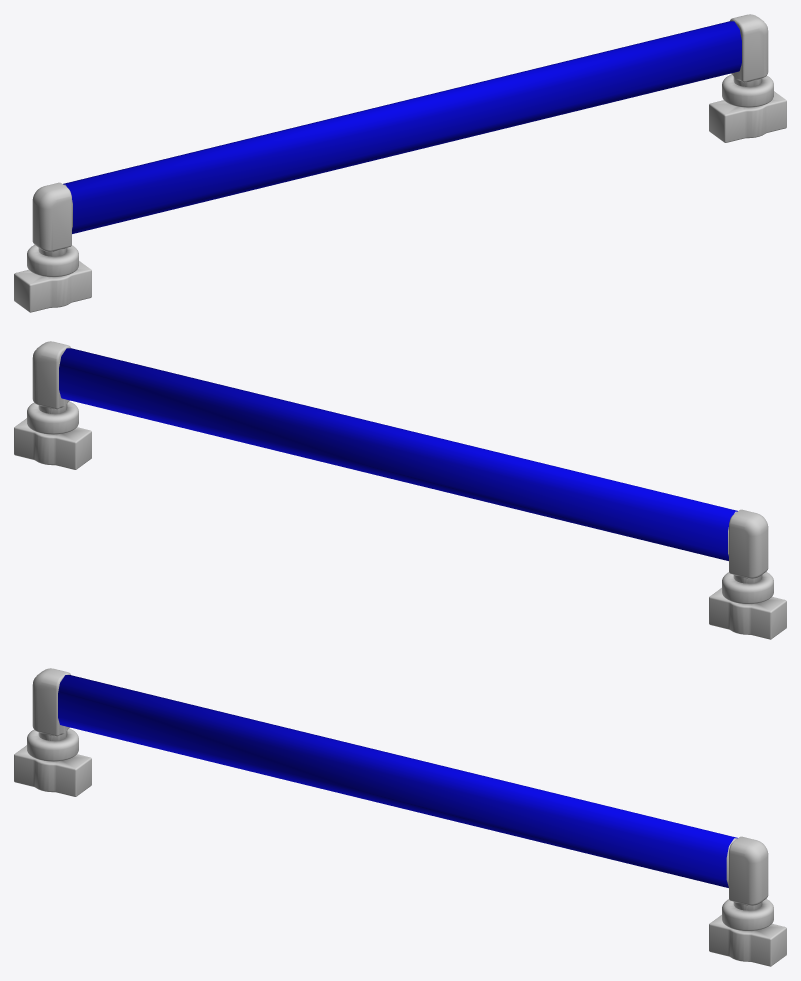
File: handrail_21_5.dae
3 renders of one model, top to bottom at view 1: azimuth 30°, elevation 25°; view 2: azimuth 150°, elevation 25°; view 3: azimuth 330°, elevation 25°, orthographic.
Visible parts, largest first — view 1: handrail_21_5; view 2: handrail_21_5; view 3: handrail_21_5.
Part boxes in pixels (left/top/right/bottom): handrail_21_5: left=14, top=14, right=786, bottom=312; handrail_21_5: left=14, top=341, right=786, bottom=639; handrail_21_5: left=14, top=668, right=786, bottom=966.
Bounding box in the file's own units: 0.5528 × 0.033 × 0.0782.
